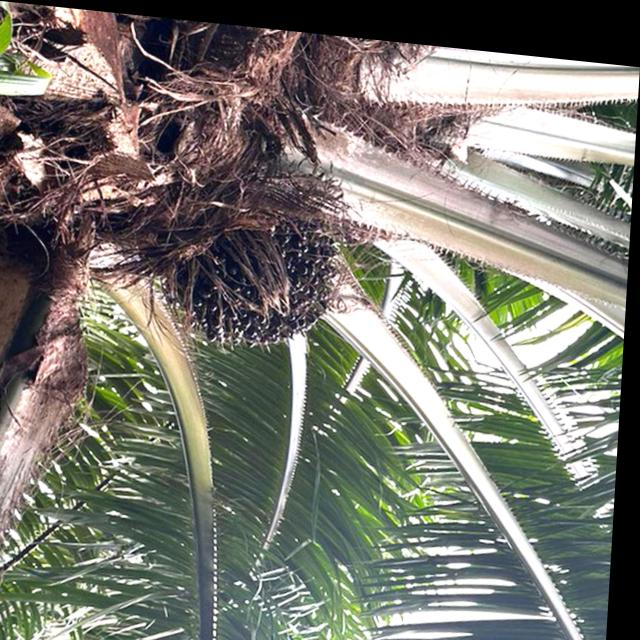unripe: (163, 186, 356, 361)
